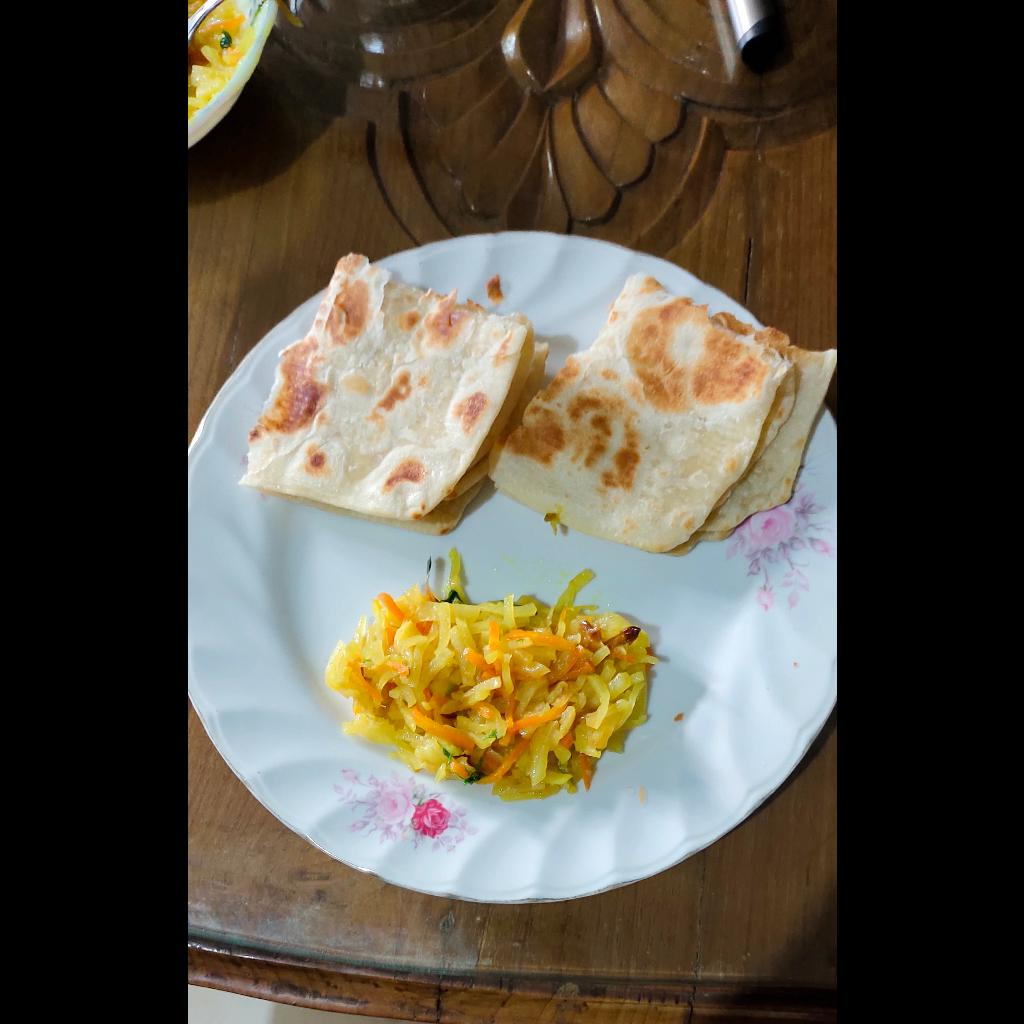ruti: (241, 248, 837, 564)
vaji: (324, 550, 652, 800)
